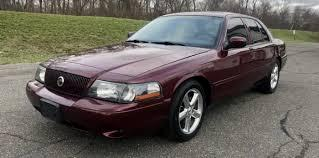Mercury: (54, 72, 67, 90)
